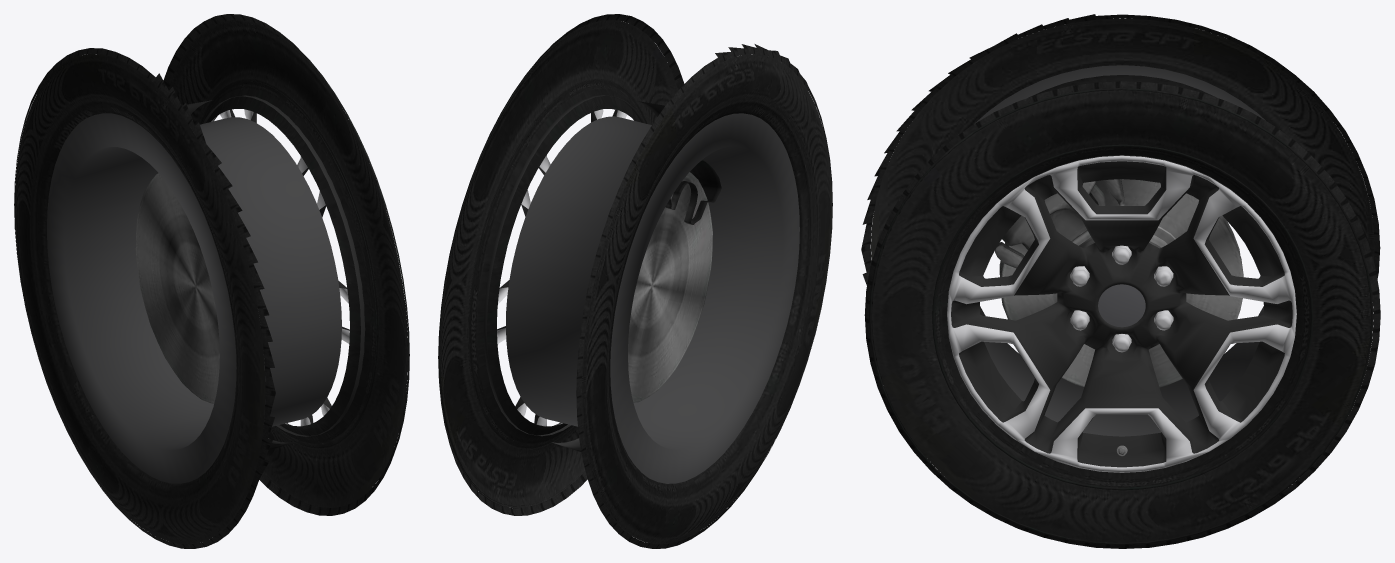
File: hilux_wheelLF.glb
3 views of the same model, side by side, from view 1: azimuth 30°, elevation 25°; view 2: azimuth 150°, elevation 25°; view 3: azimuth 270°, elevation 25° (orthographic).
Visible parts, largest first — view 1: hilux_wheelLF; view 2: hilux_wheelLF; view 3: hilux_wheelLF.
Boxes of the visible parts, <box> form: hilux_wheelLF: <box>14,14,409,548</box>; hilux_wheelLF: <box>438,14,832,548</box>; hilux_wheelLF: <box>861,14,1380,548</box>.
Size of the model in its own units: 0.2465 by 0.7169 by 0.7192.
Materials: 9 (3 with a texture image).
